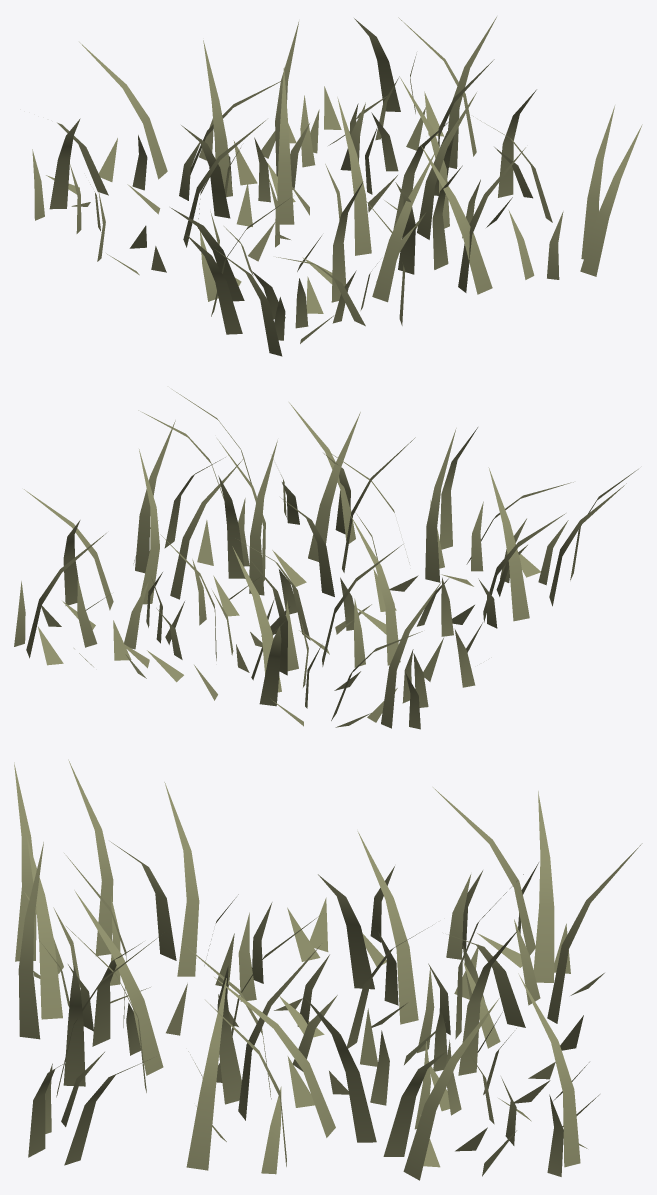
Rendered from Grass_3.fbx.
The picture shows the model from 3 angles, top to bottom: view 1: azimuth 30°, elevation 25°; view 2: azimuth 150°, elevation 25°; view 3: azimuth 270°, elevation 25°; orthographic projection. The views are drawn at different scales.
Parts seen in each view (by area): view 1: Grass_3; view 2: Grass_3; view 3: Grass_3.
Boxes of the visible parts, x1,y1,x2,y2 form: Grass_3: [32, 17, 642, 356]; Grass_3: [14, 389, 638, 729]; Grass_3: [14, 759, 642, 1180].
Size of the model in its own units: 2.35 by 2.2 by 0.6806.
